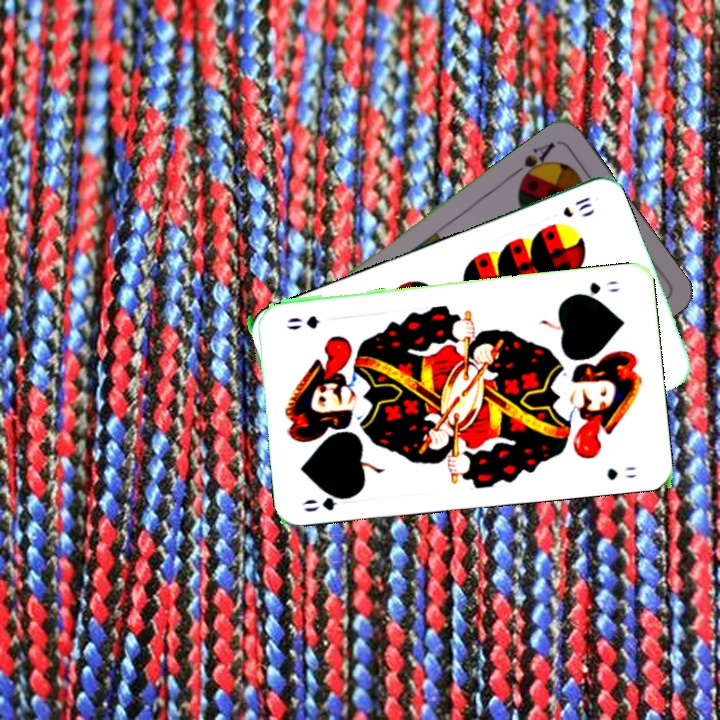GO: (299, 487, 357, 515), (569, 276, 622, 301)
S10: (558, 192, 595, 220)
SA: (508, 138, 558, 187)
